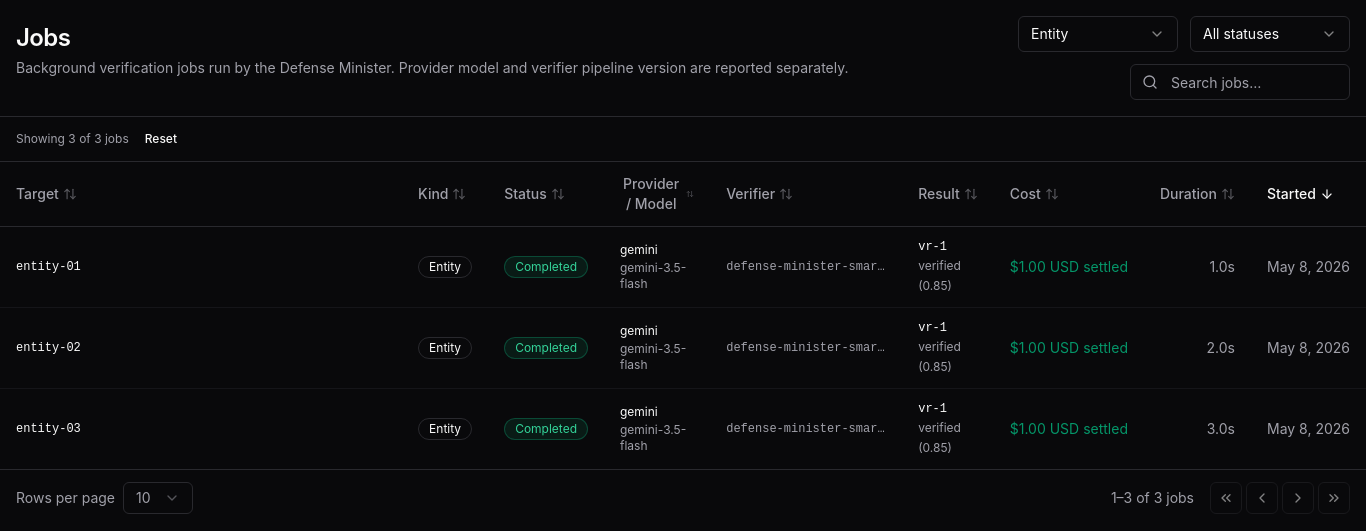
JobsTable — states › distinguishes "no matches" from "nothing has run", and Clear filters resets both
In the search field with test id "jobs-search-input": (1240, 82) x1=1130 y1=64 x2=1350 y2=100, type "no-such-target"
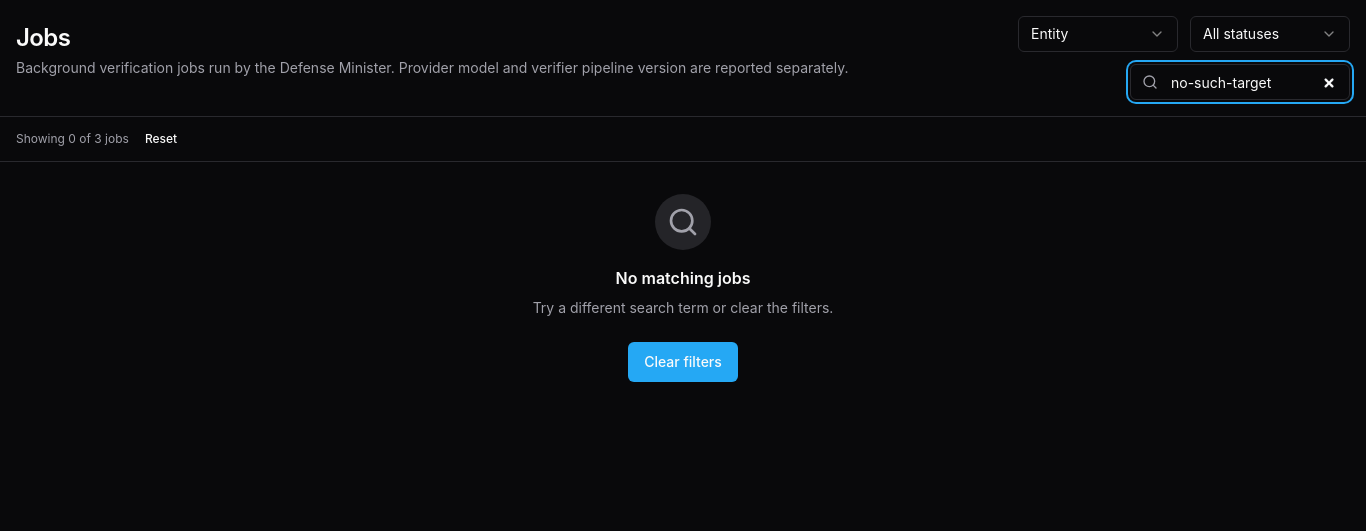
Expected: the heading "No matching jobs" is shown, x1=616 y1=266 x2=750 y2=290
Click the button "Clear filters": (683, 362) x1=628 y1=342 x2=738 y2=382
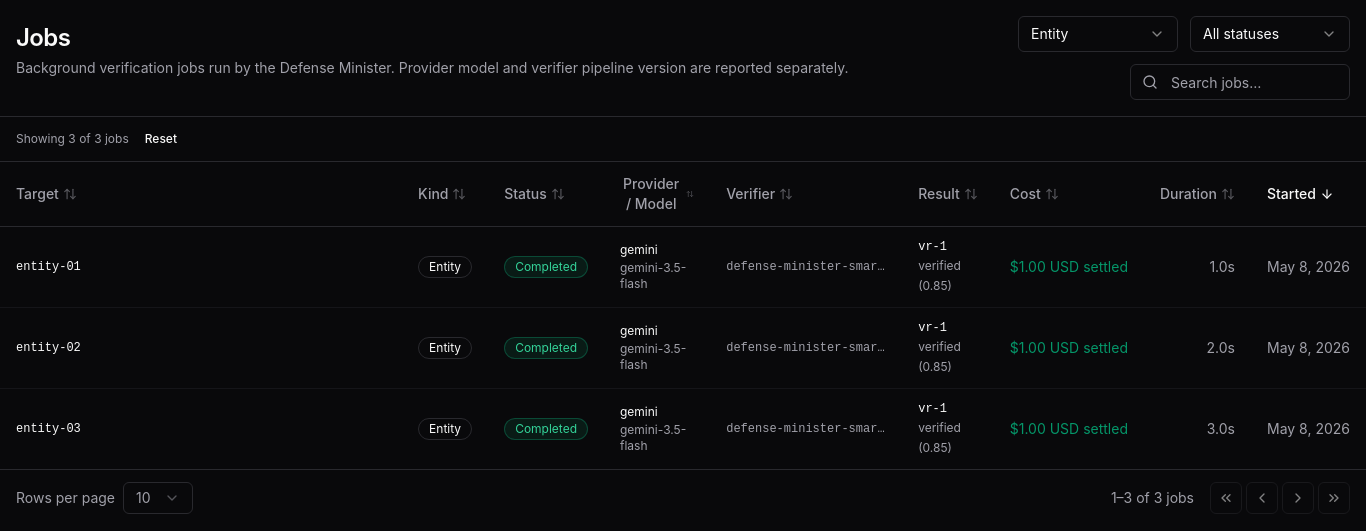
Expected: the search field with test id "jobs-search-input" is empty, x1=1130 y1=64 x2=1350 y2=100
